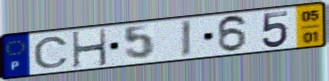5: (121, 23, 158, 63), (260, 10, 291, 49)
6: (216, 13, 252, 55)
C: (31, 35, 71, 70)
H: (70, 27, 109, 70)
I: (179, 18, 193, 59)
